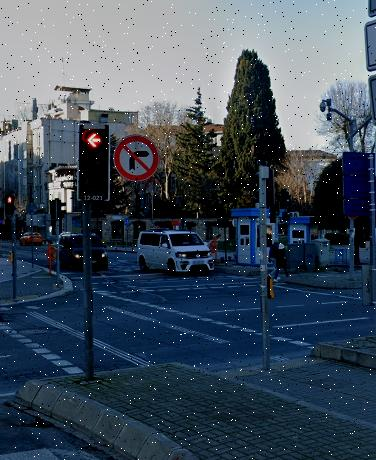redlight: (77, 120, 113, 200)
rightturnsareforbidden: (113, 133, 160, 184)
